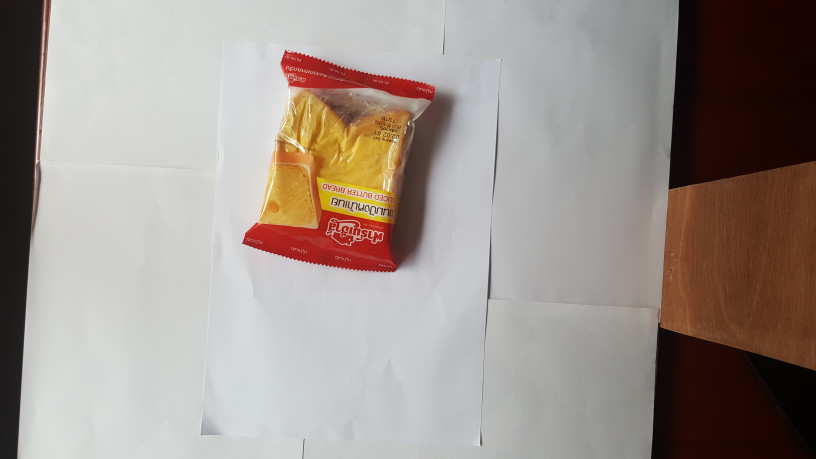farmhouse-bread-butter: (235, 41, 447, 280)
